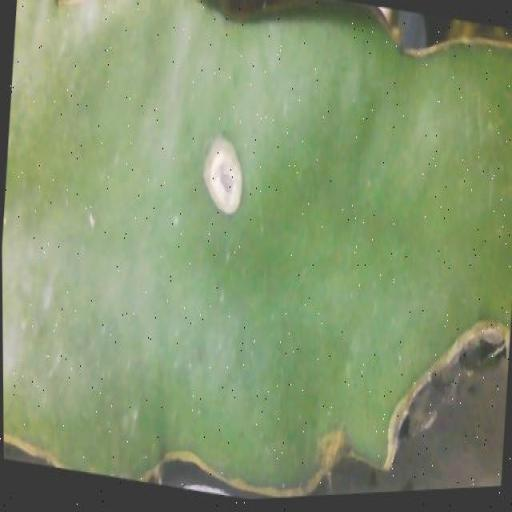stemcanker: (186, 155, 236, 250)
